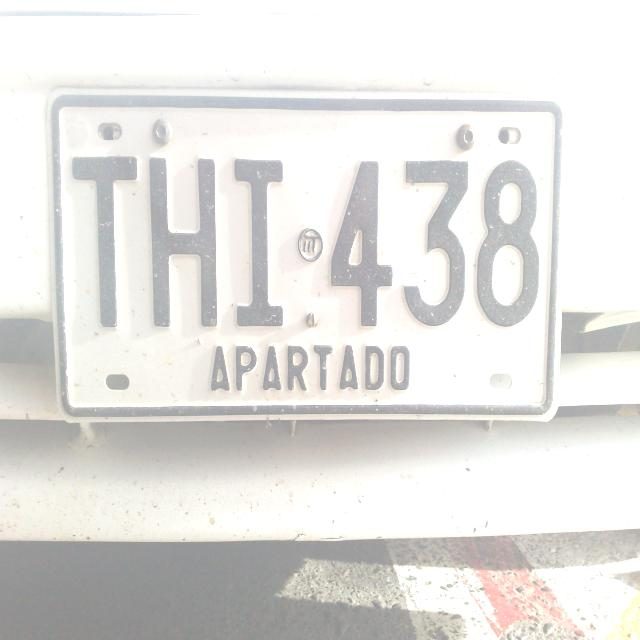placa: (41, 76, 569, 432)
